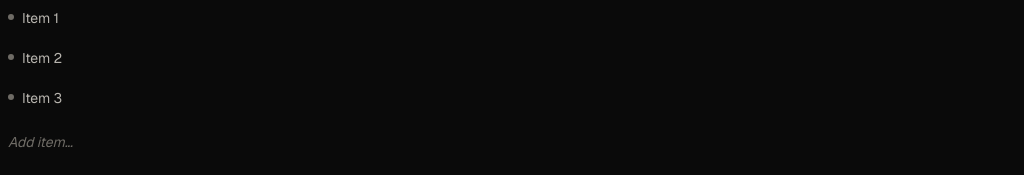
Scenario: EditableList › editing › exits edit mode when cancel is clicked
Step 1. Click the text "Item 1" → (40, 18), box [22, 9, 59, 27]
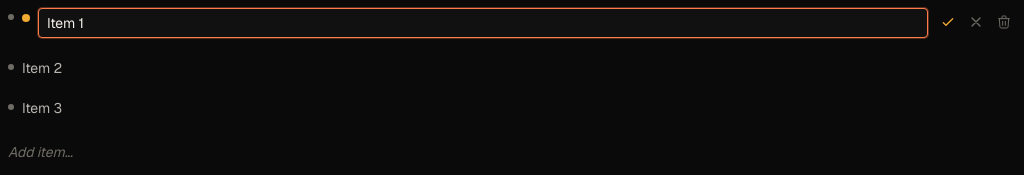
Now the field is shown, box [38, 8, 928, 38]
Step 2. Click the button named "cancel" → (976, 22), box [964, 10, 988, 34]
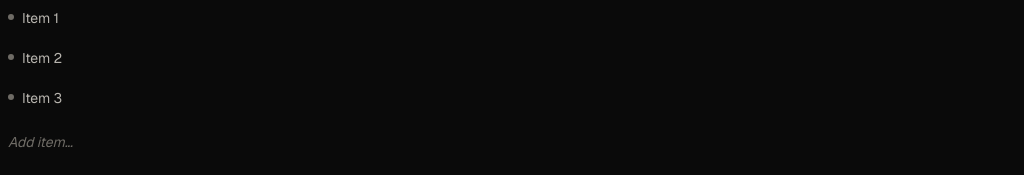
Now the field is gone
Now the text "Item 1" is shown, box [22, 9, 59, 27]
